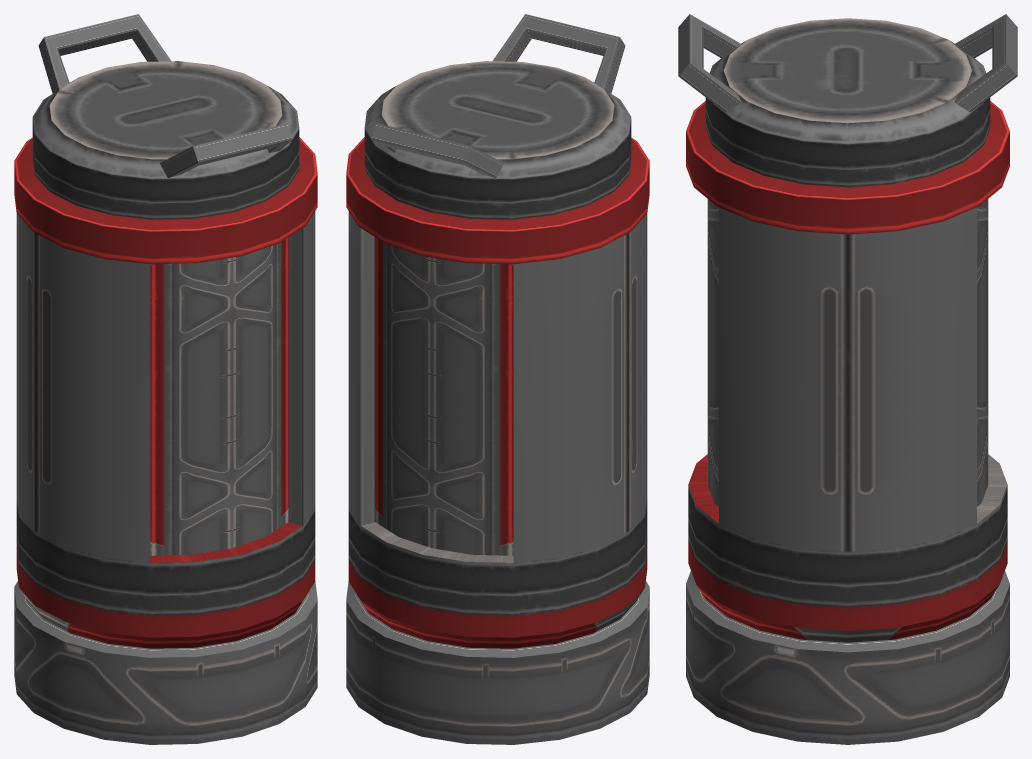
The model's file is quaternius-scifi-barrel.glb.
3 renders of one model, left to right at view 1: azimuth 30°, elevation 25°; view 2: azimuth 150°, elevation 25°; view 3: azimuth 270°, elevation 25°, orthographic. The views are drawn at different scales.
Parts seen in each view (by area): view 1: Prop_Barrel_Large; view 2: Prop_Barrel_Large; view 3: Prop_Barrel_Large.
Part boxes in pixels (x1,y1,x2,y2): Prop_Barrel_Large: (14, 14, 317, 744); Prop_Barrel_Large: (346, 14, 649, 744); Prop_Barrel_Large: (678, 14, 1017, 744).
Size of the model in its own units: 0.5078 by 1.1 by 0.532.
Materials: 2 (2 with a texture image).
